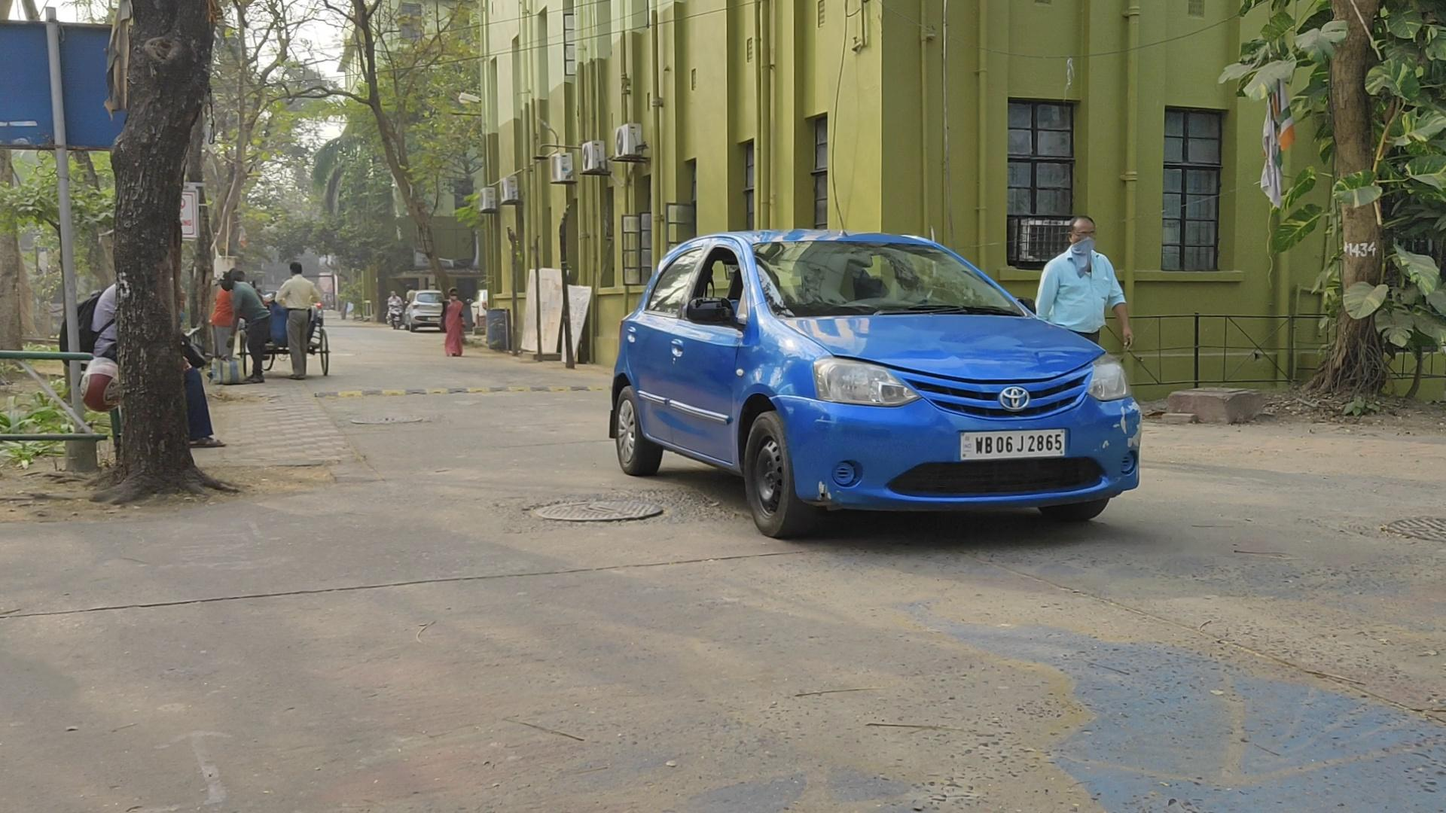bike: (386, 290, 406, 333)
car: (609, 230, 1139, 542), (403, 290, 448, 332)
